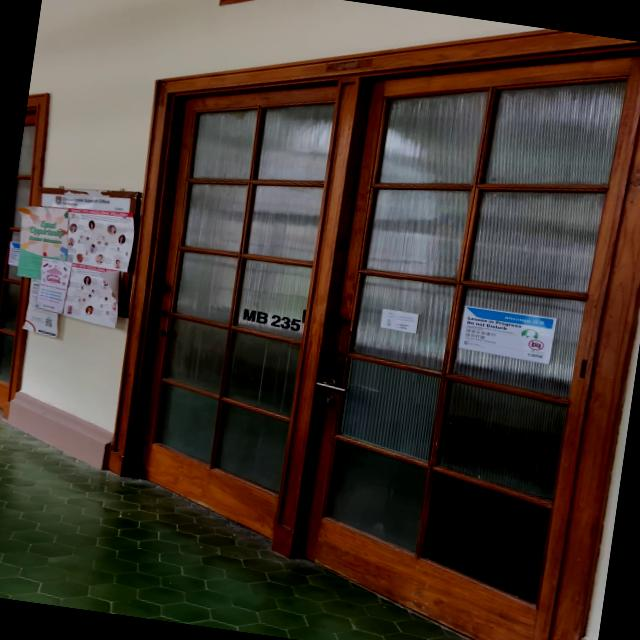room235Window: (232, 304, 308, 334)
